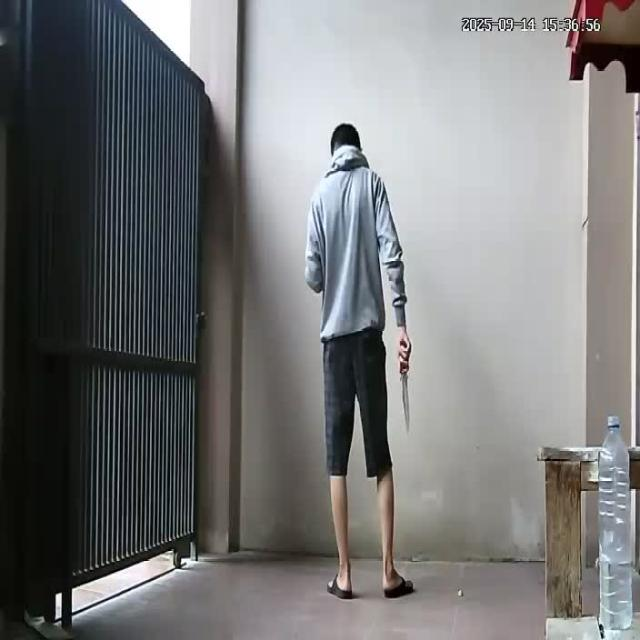senjata_tajam: (400, 372, 412, 432)
